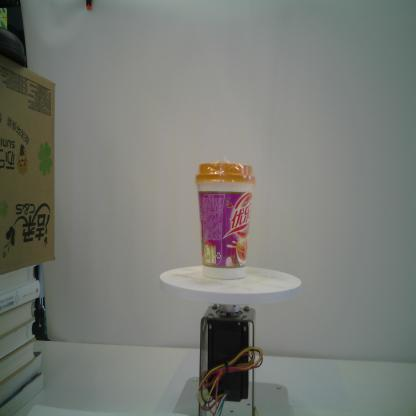Instant Drink: (196, 162, 256, 280)
